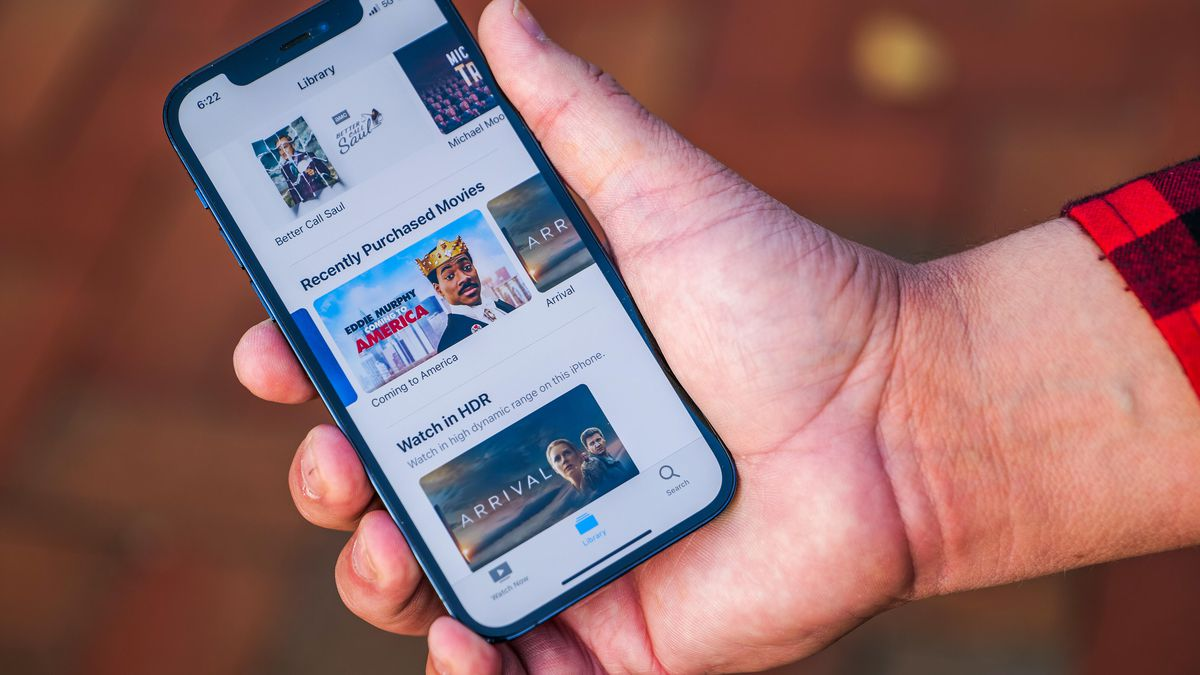Cell Phone: (142, 5, 751, 645)
